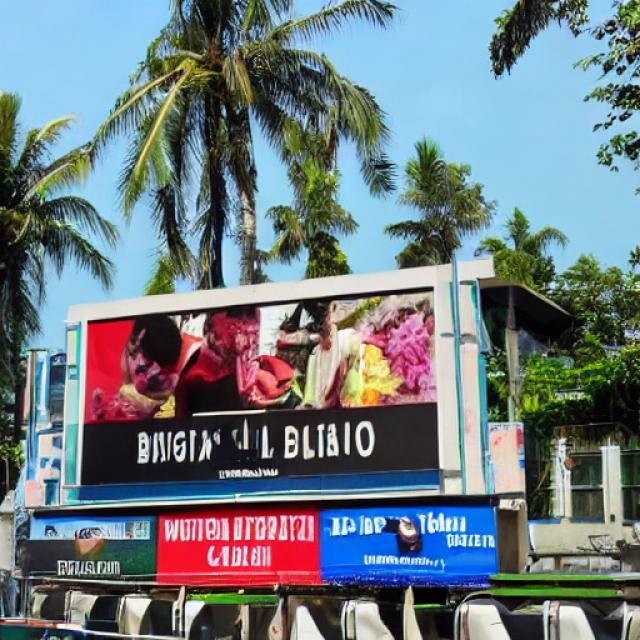Billboard: (80, 280, 438, 492)
